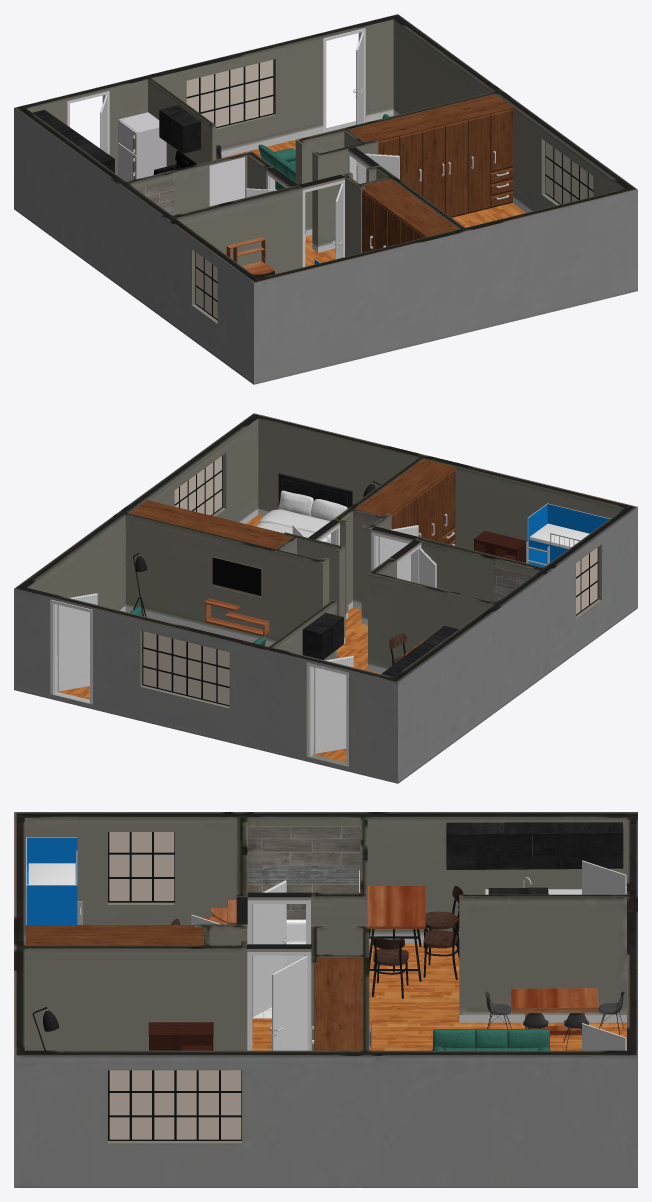
File: apartment-transformed.glb
3 renders of one model, top to bottom at view 1: azimuth 30°, elevation 25°; view 2: azimuth 150°, elevation 25°; view 3: azimuth 270°, elevation 25°, orthographic. The views are drawn at different scales.
Visible parts, largest first — view 1: wall1_wall_0, fur2_funiture_0, Box021_ag_0, wood7_wood5_0, sofa_1_pCube6_lambert2_0; view 2: wall1_wall_0, wood7_wood5_0, fur2_funiture_0, Box021_ag_0, Body.001_blinn4.001_0; view 3: wall1_wall_0, wood7_wood5_0, Box021_ag_0, fur2_funiture_0, sofa_1_pCube6_lambert2_0, Body.001_blinn4.001_0.
Boxes of the visible parts, x1,y1,x2,y2 form: wall1_wall_0: (14,14,637,384); fur2_funiture_0: (105,59,593,320); Box021_ag_0: (118,60,593,318); wood7_wood5_0: (32,28,399,278); sofa_1_pCube6_lambert2_0: (258,114,389,182); wall1_wall_0: (14,413,637,783); wood7_wood5_0: (50,473,458,766); fur2_funiture_0: (129,455,598,706); Box021_ag_0: (143,456,609,745); Body.001_blinn4.001_0: (473,531,527,562); wall1_wall_0: (14,812,637,1187); wood7_wood5_0: (170,822,626,1050); Box021_ag_0: (26,832,359,1139); fur2_funiture_0: (25,832,624,1140); sofa_1_pCube6_lambert2_0: (433,1029,549,1050); Body.001_blinn4.001_0: (148,1022,213,1050).
Bounding box in the file's own units: 10 × 2.52 × 10.81.
12 materials, 12 textured.
